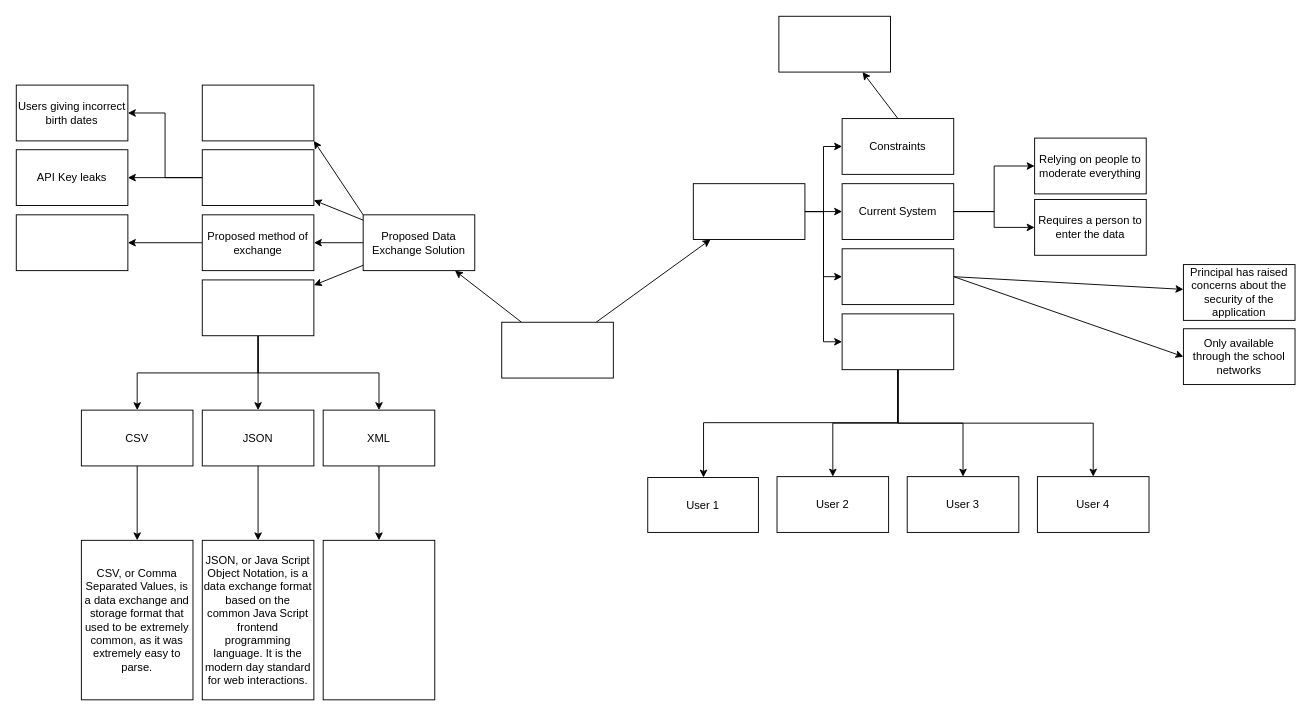
The diagram is 1311 pixels wide and 716 high, and some of its shapes have lost their labels. Here are the shapes that lost their labels. From the top down, the centre of each, then its label:
At (834,43): "Students are able to access prohibited games".
At (257,112): "Proposed additions to solution".
At (257,177): "Possible security threats".
At (748,211): "Contextual Information (Existing Solution)".
At (71,242): "JSON file".
At (897,276): "Club Context".
At (257,307): "Types of data to be used".
At (557,349): "AHSHS Video Game Club".
At (897,341): "Users of the System".
At (378,619): "XML, or Extensive M".
